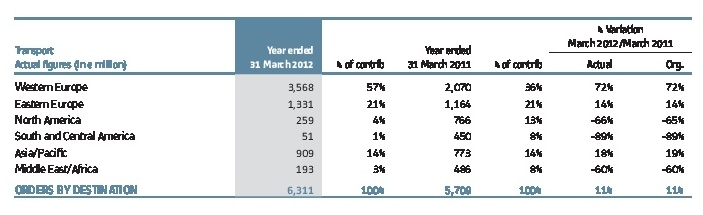table: (0, 0, 703, 215)
